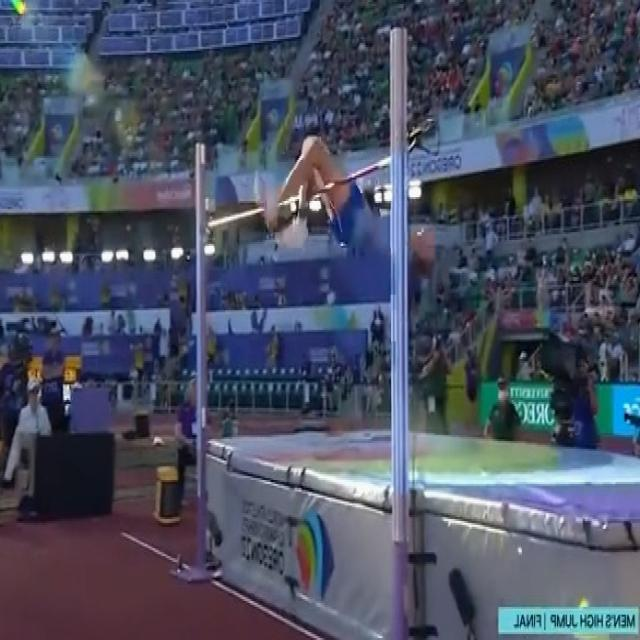jump: (254, 137, 432, 271)
